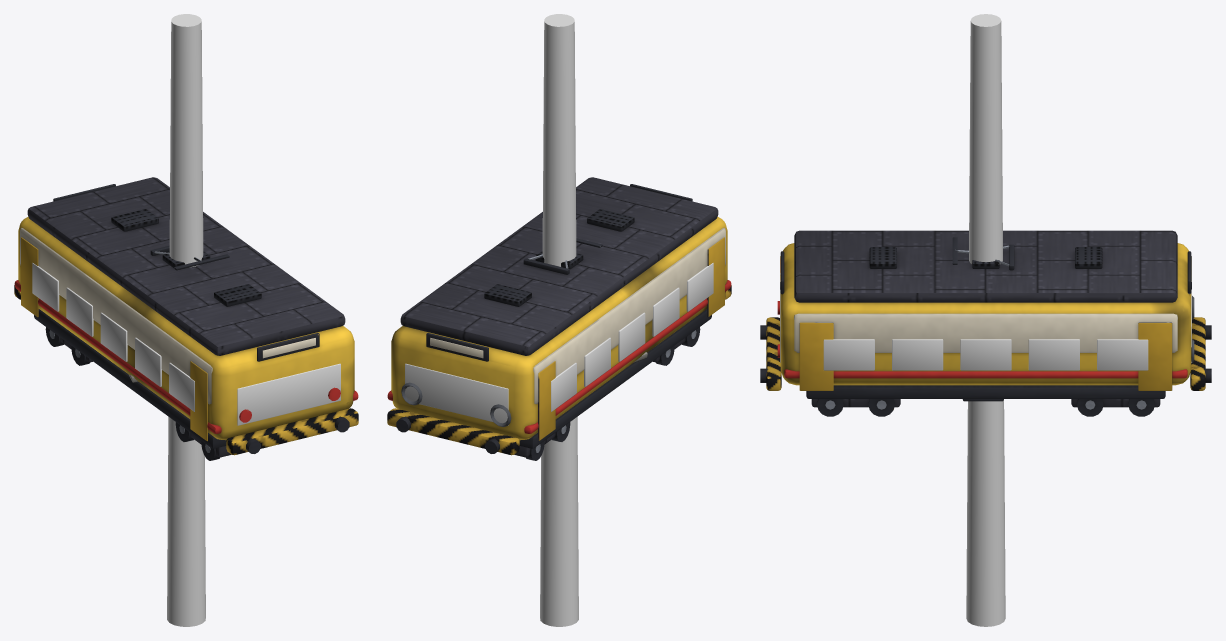
File: Story.fbx
3 views of the same model, side by side, from view 1: azimuth 30°, elevation 25°; view 2: azimuth 150°, elevation 25°; view 3: azimuth 270°, elevation 25° (orthographic).
Visible parts, largest first — view 1: StoryTrainBody.001, StoryBeaconBeam.001, StoryTrainGlass.001; view 2: StoryTrainBody.001, StoryBeaconBeam.001, StoryTrainGlass.001; view 3: StoryTrainBody.001, StoryBeaconBeam.001, StoryTrainGlass.001.
Boxes of the visible parts, box(x1,y1,x2,y2) form: StoryTrainBody.001: box(14, 177, 358, 460); StoryBeaconBeam.001: box(167, 14, 205, 626); StoryTrainGlass.001: box(32, 263, 340, 425); StoryTrainBody.001: box(387, 177, 731, 460); StoryBeaconBeam.001: box(540, 14, 578, 626); StoryTrainGlass.001: box(405, 263, 713, 425); StoryTrainBody.001: box(760, 230, 1211, 416); StoryBeaconBeam.001: box(966, 14, 1005, 626); StoryTrainGlass.001: box(780, 289, 1191, 370).
Bounding box in the file's own units: 9.9 × 38.6 × 26.4.
Materials: 8 (8 with a texture image).
